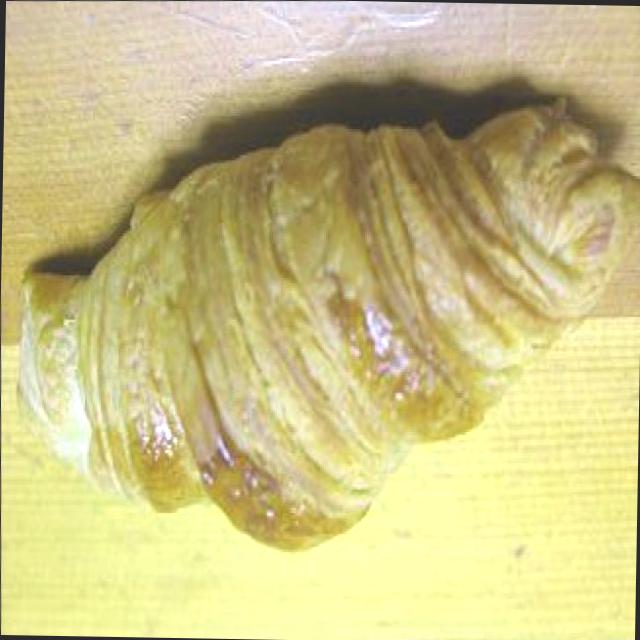Croissant: (0, 66, 640, 572)
